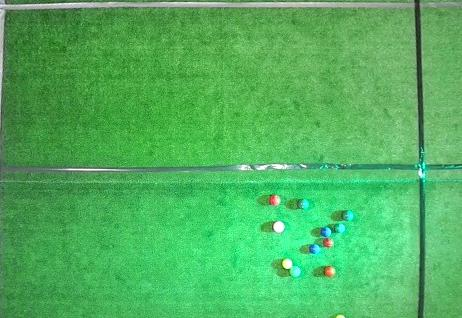blue: (320, 227, 332, 237), (309, 244, 320, 254)
green: (297, 199, 309, 210), (290, 266, 301, 277), (342, 211, 354, 221), (334, 224, 345, 233)
red: (273, 221, 285, 233), (324, 266, 336, 277), (269, 195, 281, 206), (323, 238, 334, 248)
vline: (414, 0, 461, 317), (0, 0, 7, 317)
yellow: (282, 259, 292, 269), (336, 315, 347, 317)
